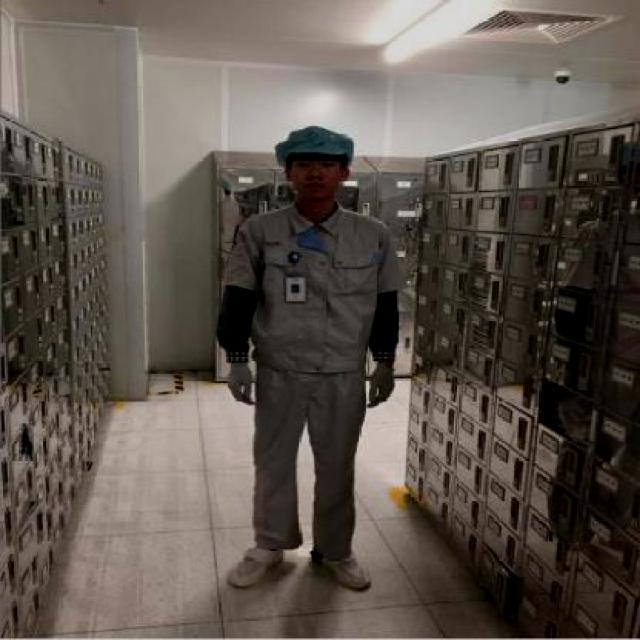face_nomask: (289, 152, 351, 198)
hand_glove: (364, 362, 398, 408), (229, 363, 257, 405)
head_nohelmet: (274, 110, 361, 156)
person: (206, 101, 419, 594)
shoes: (224, 535, 294, 593), (308, 536, 374, 596)
